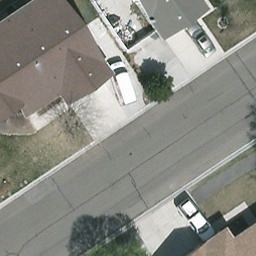car: (182, 21, 219, 57)
pickup: (176, 198, 215, 243)
van: (107, 63, 139, 105)
